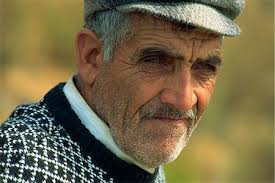middle_eastern_male: (97, 3, 222, 162)
